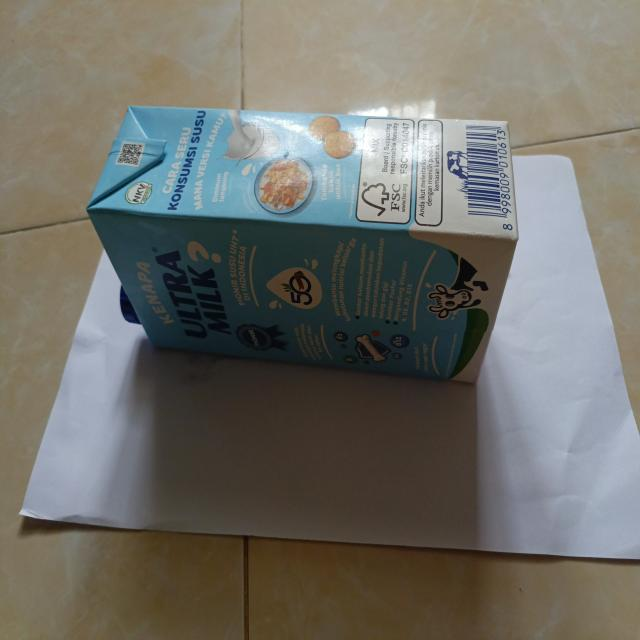indomie-mie-kocok-bandung: (86, 104, 522, 387)
